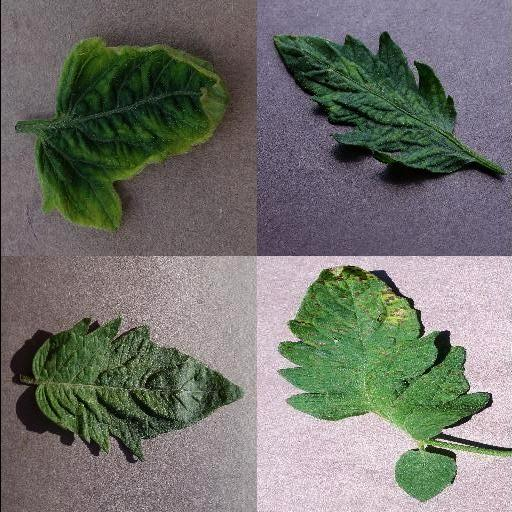Healthy: (396, 450, 458, 502)
Mosaic Virus: (272, 32, 475, 176)
Septoria: (277, 264, 492, 438)
Spider Mites: (31, 316, 245, 464)
Yellow Leaf Curl Virus: (32, 35, 226, 231)
